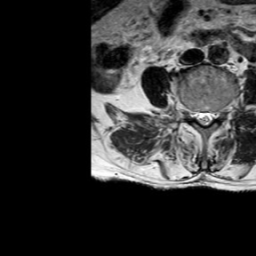CCS_stenosis: (200, 101, 207, 134)
LFS_normal: (215, 99, 224, 126)
LLS_normal: (207, 102, 215, 128)
RFS_normal: (185, 99, 193, 127)
RLS_normal: (193, 100, 200, 128)
